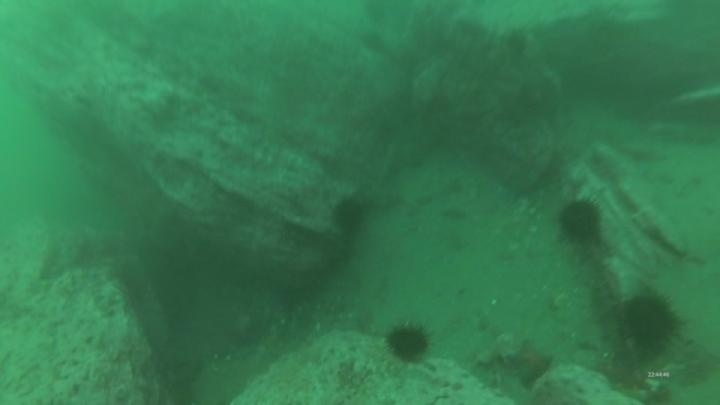echinus: (617, 289, 684, 356), (556, 196, 604, 246), (384, 320, 433, 365), (330, 195, 369, 235), (359, 29, 388, 56)
starfish: (504, 339, 555, 387)
